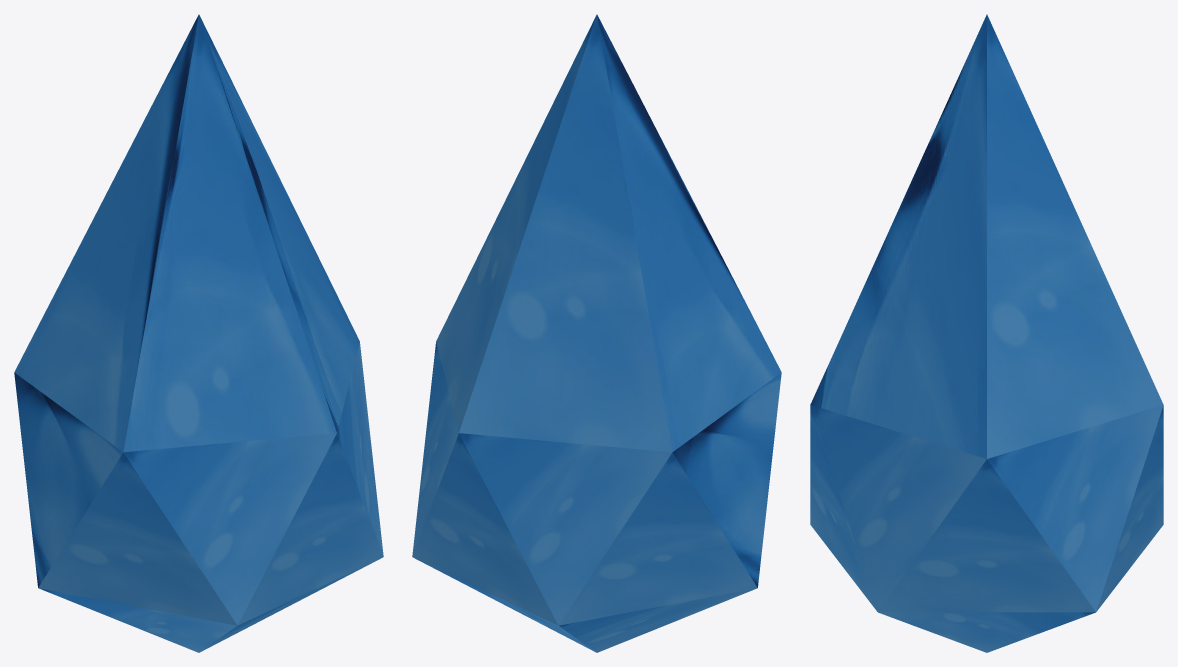
The model's file is water_drop.gltf.
3 views of the same model, side by side, from view 1: azimuth 30°, elevation 25°; view 2: azimuth 150°, elevation 25°; view 3: azimuth 270°, elevation 25° (orthographic).
Parts seen in each view (by area): view 1: Icosphere; view 2: Icosphere; view 3: Icosphere.
Boxes of the visible parts, x1,y1,x2,y2 form: Icosphere: (14, 14, 383, 652); Icosphere: (412, 14, 781, 652); Icosphere: (810, 14, 1163, 652).
Size of the model in its own units: 1.79 by 3.39 by 1.7.
1 material, 1 textured.
